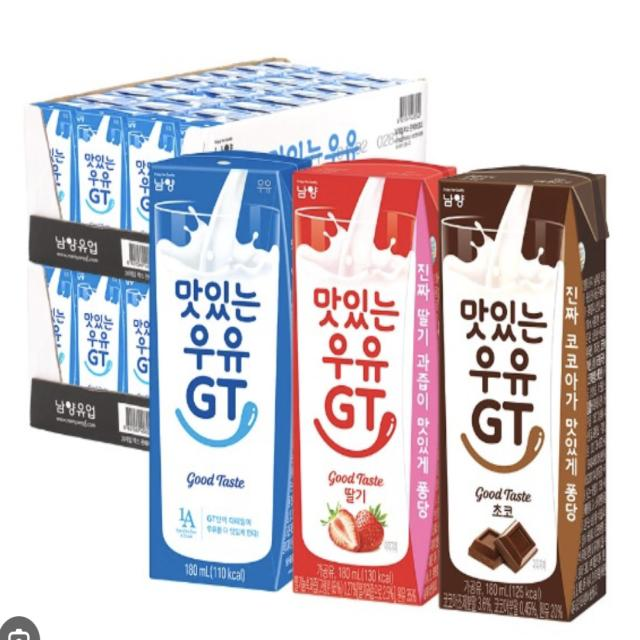biodegradable: (430, 127, 614, 630), (133, 125, 319, 598), (283, 122, 450, 615)
